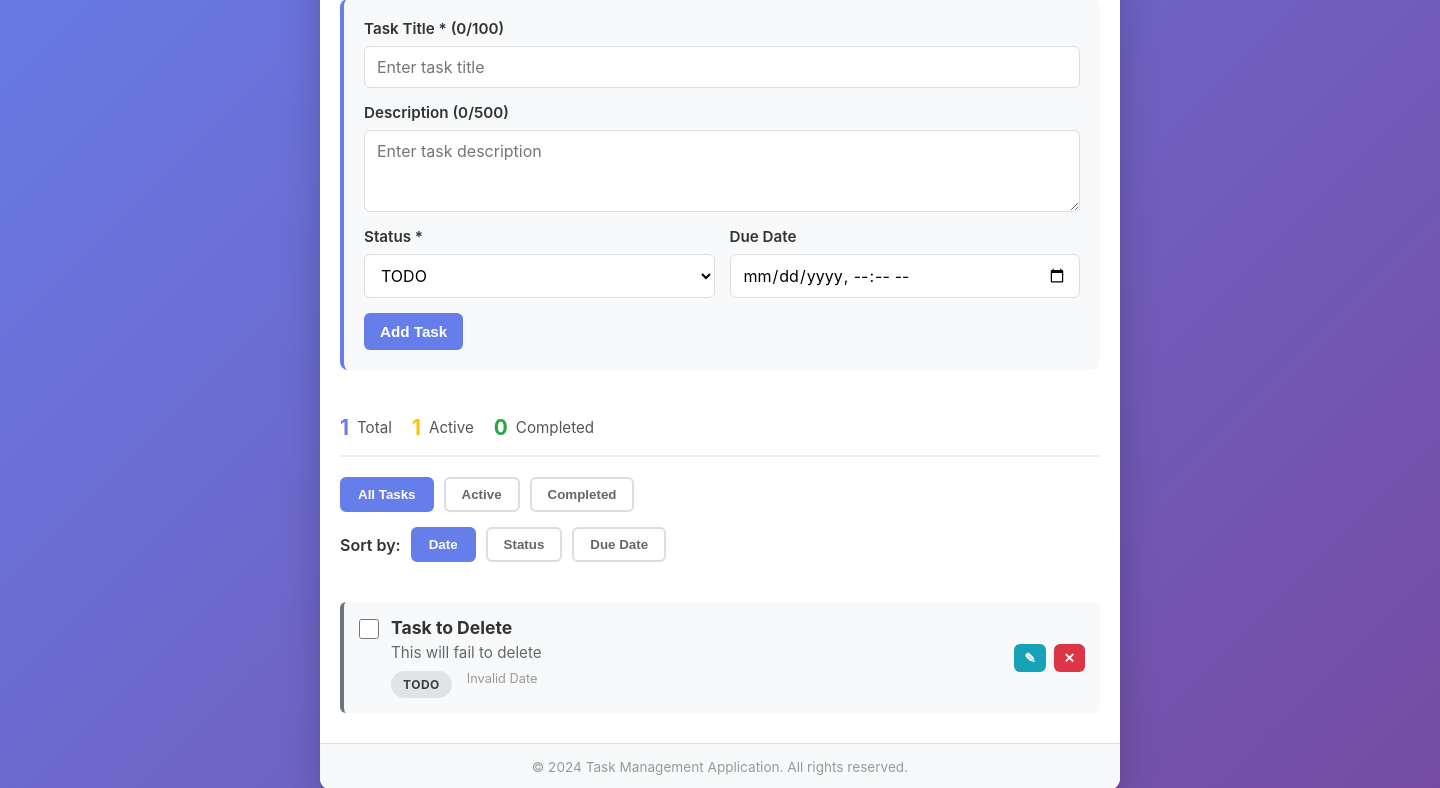
it: App Component - CRUD Operations › should display error when task deletion fails
(page scrolled)
expect the heading "Task to Delete" is shown: met, box [391,617,512,638]
Click the button titled "Delete task".
click(1069, 658)  # box [1054,644,1085,672]
(page scrolled)
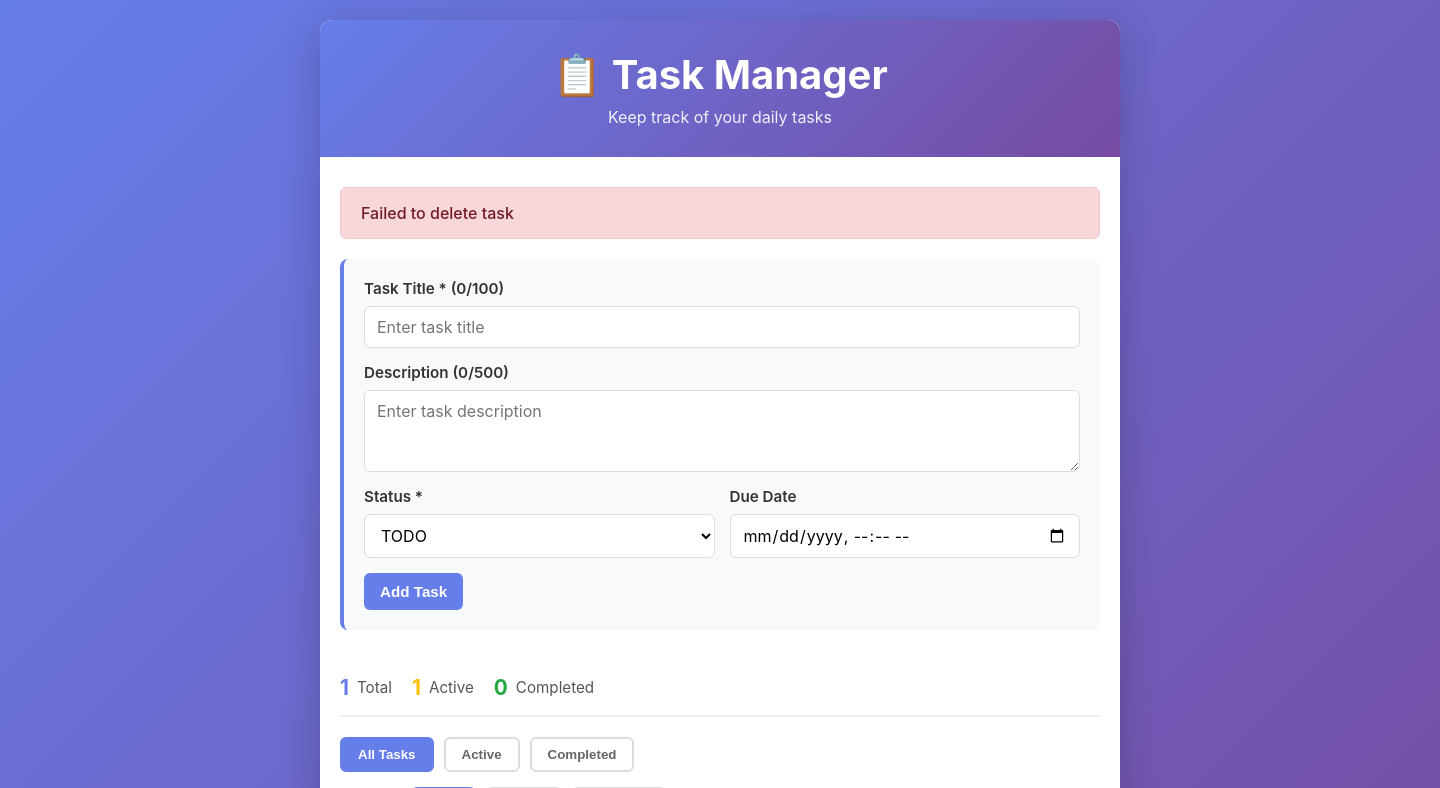
expect the text "Failed to delete task" is shown: met, box [340,187,1100,239]
